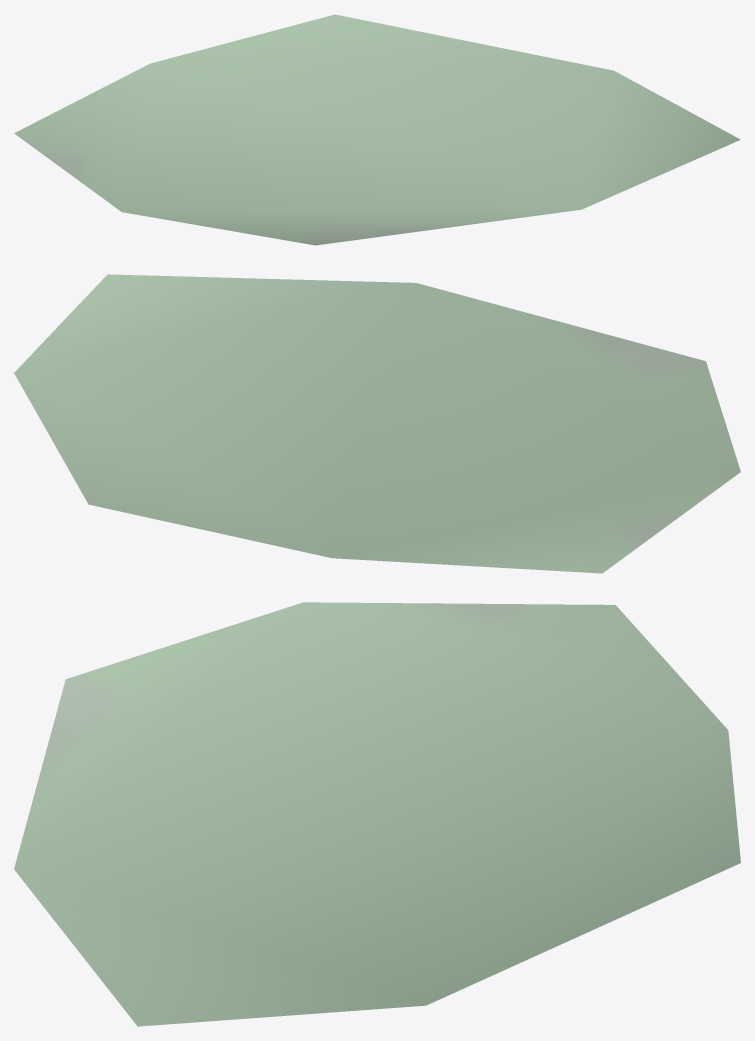
The model's file is TROLLHOLE02_HOLECAP206.fbx.
3 renders of one model, top to bottom at view 1: azimuth 30°, elevation 25°; view 2: azimuth 150°, elevation 25°; view 3: azimuth 270°, elevation 25°, orthographic. The views are drawn at different scales.
Parts seen in each view (by area): view 1: TROLLHOLE02_HOLECAP206; view 2: TROLLHOLE02_HOLECAP206; view 3: TROLLHOLE02_HOLECAP206.
Part boxes in pixels (x1,y1,x2,y2): TROLLHOLE02_HOLECAP206: (14,14,740,245); TROLLHOLE02_HOLECAP206: (14,274,740,573); TROLLHOLE02_HOLECAP206: (14,602,740,1026).
Bounding box in the file's own units: 10589 × 407 × 8290.
1 material, 1 textured.
